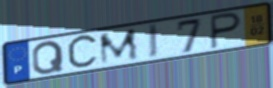7: (175, 18, 204, 55)
C: (65, 32, 101, 72)
I: (147, 22, 160, 60)
M: (98, 27, 141, 67)
P: (209, 11, 244, 51)
Q: (31, 39, 66, 76)
